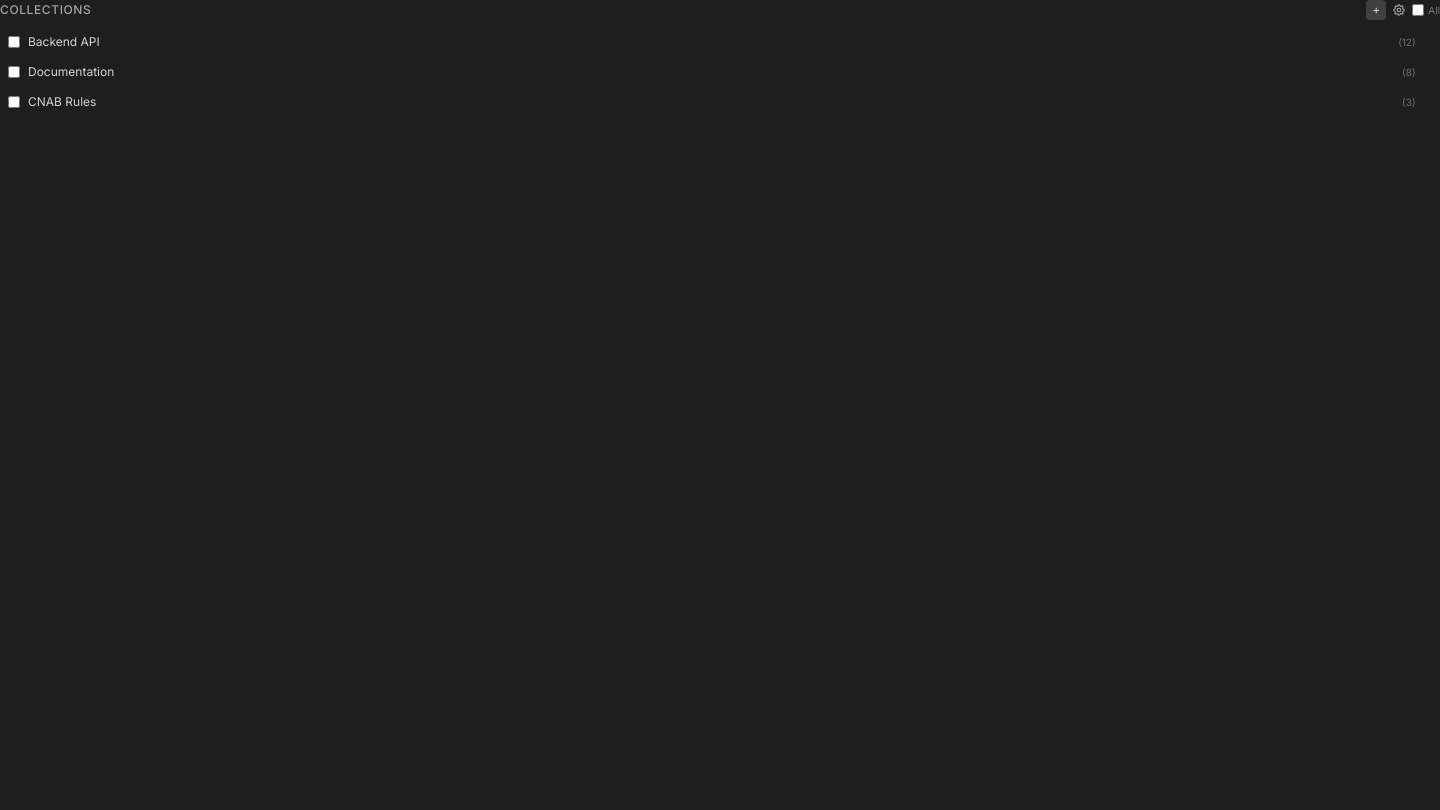
Test: CollectionList › Create collection modal › should show crud error when create API fails
Click the button with test id "create-collection-btn": (1376, 10) left=1366, top=0, right=1386, bottom=20
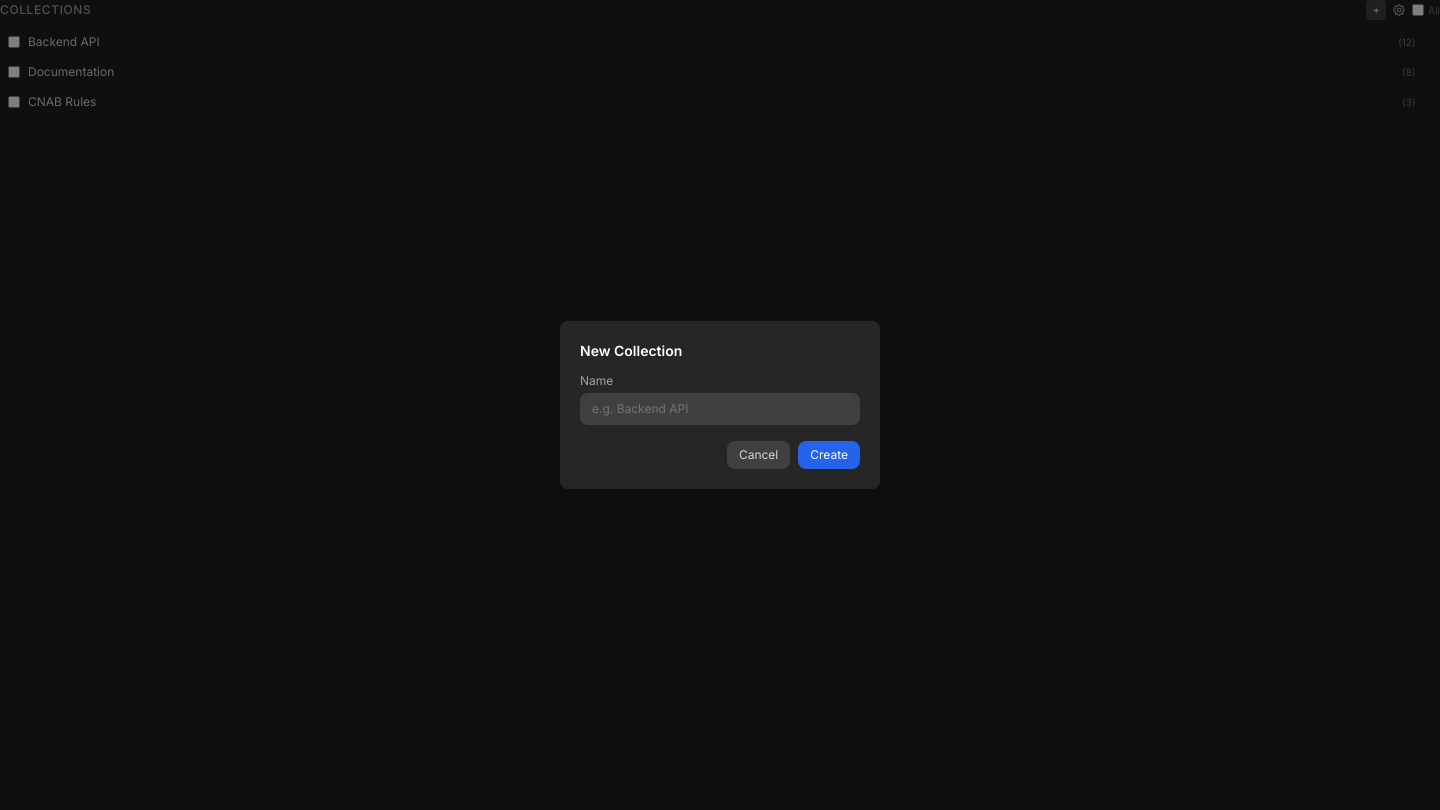
In the field with test id "collection-name-input": (720, 409) left=580, top=393, right=860, bottom=425, type "Failing"
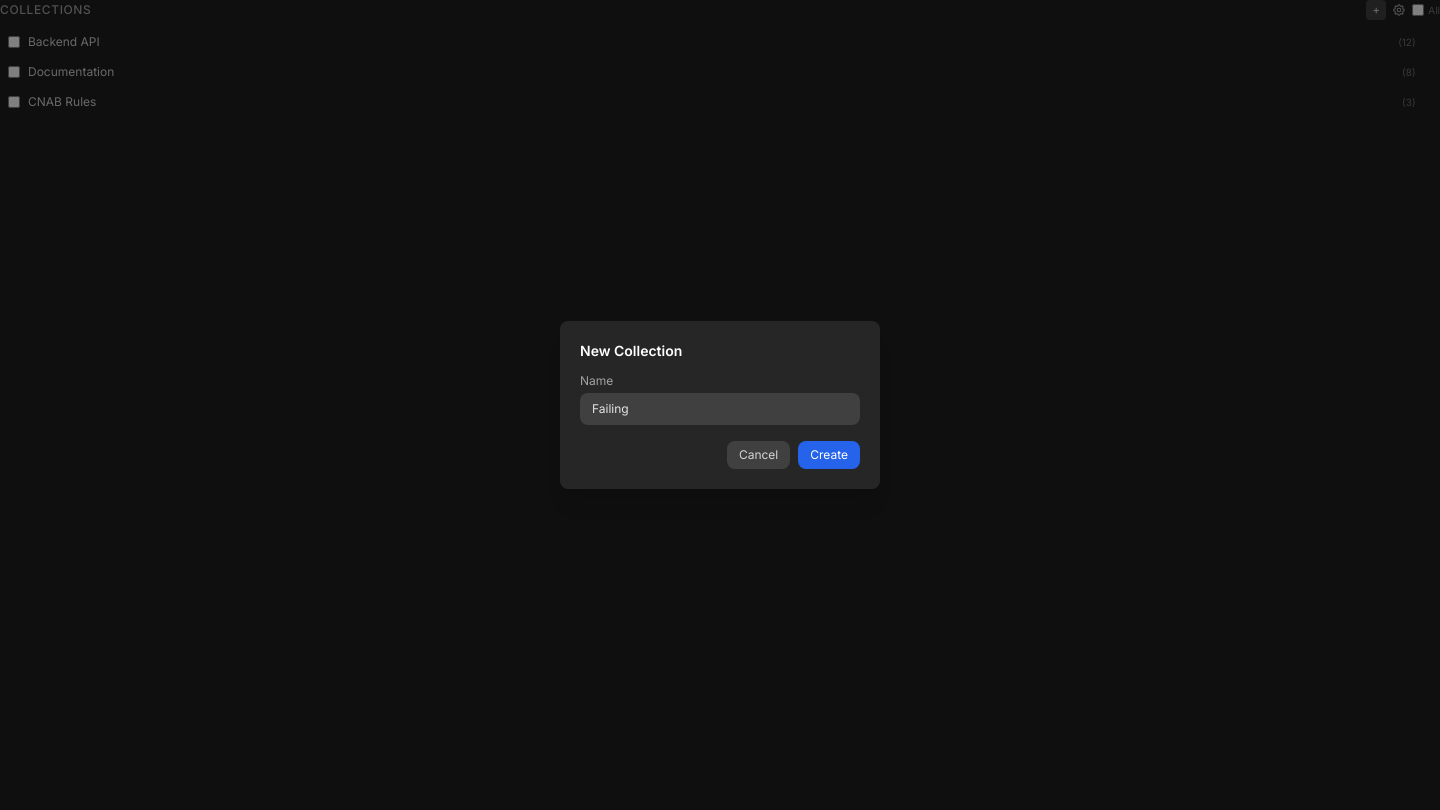
Click the button with test id "create-submit-btn": (829, 455) left=798, top=441, right=860, bottom=469
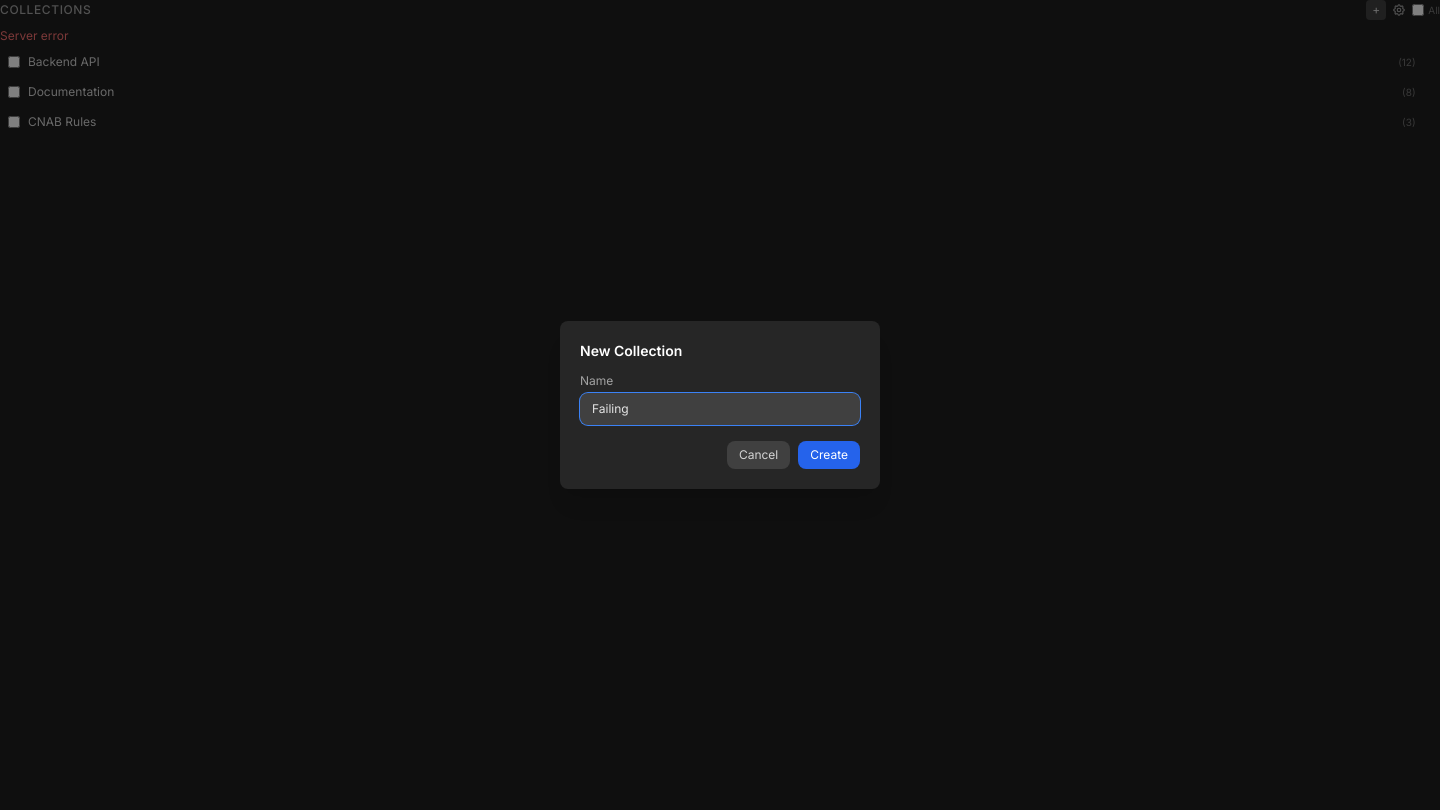
Check: the text with test id "crud-error-message" reads "Server error", box left=0, top=28, right=68, bottom=43
